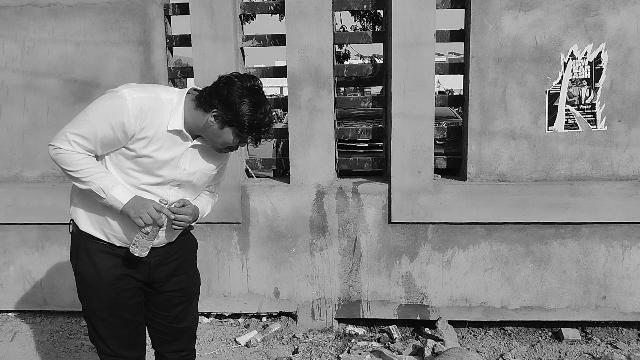spit: (188, 62, 343, 336)
